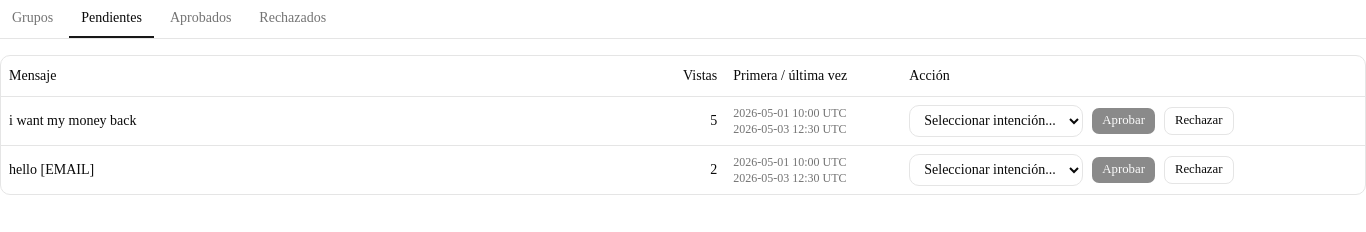
it: ReviewQueue › hints at a re-embed when the example was not embedded
Select "refund" in the dropdown named "intención" in the row of "i want my money back": (996,120) [909,104,1083,136]
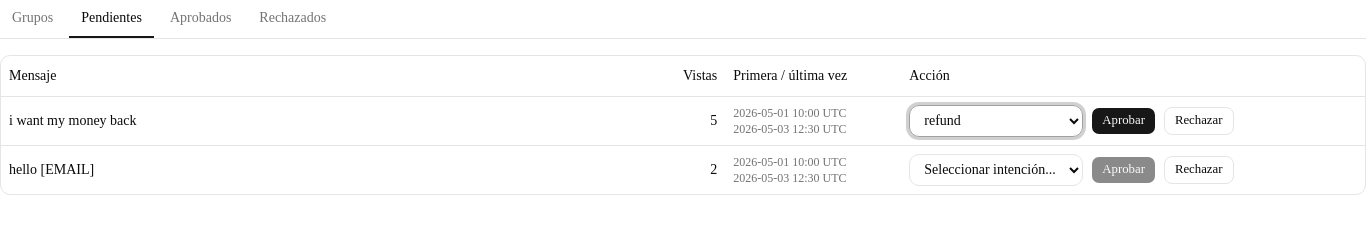
Click the button "Aprobar" in the row of "i want my money back": (1124,120) [1091,106,1156,134]
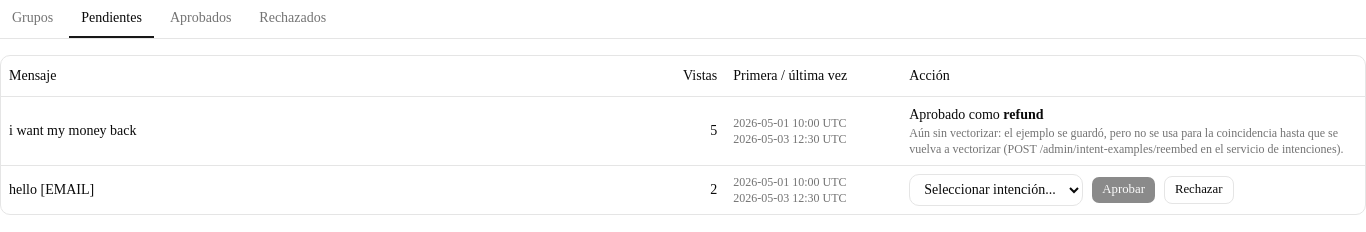
Result: the text "Aún sin vectorizar" is shown at [909,126,1344,156]
